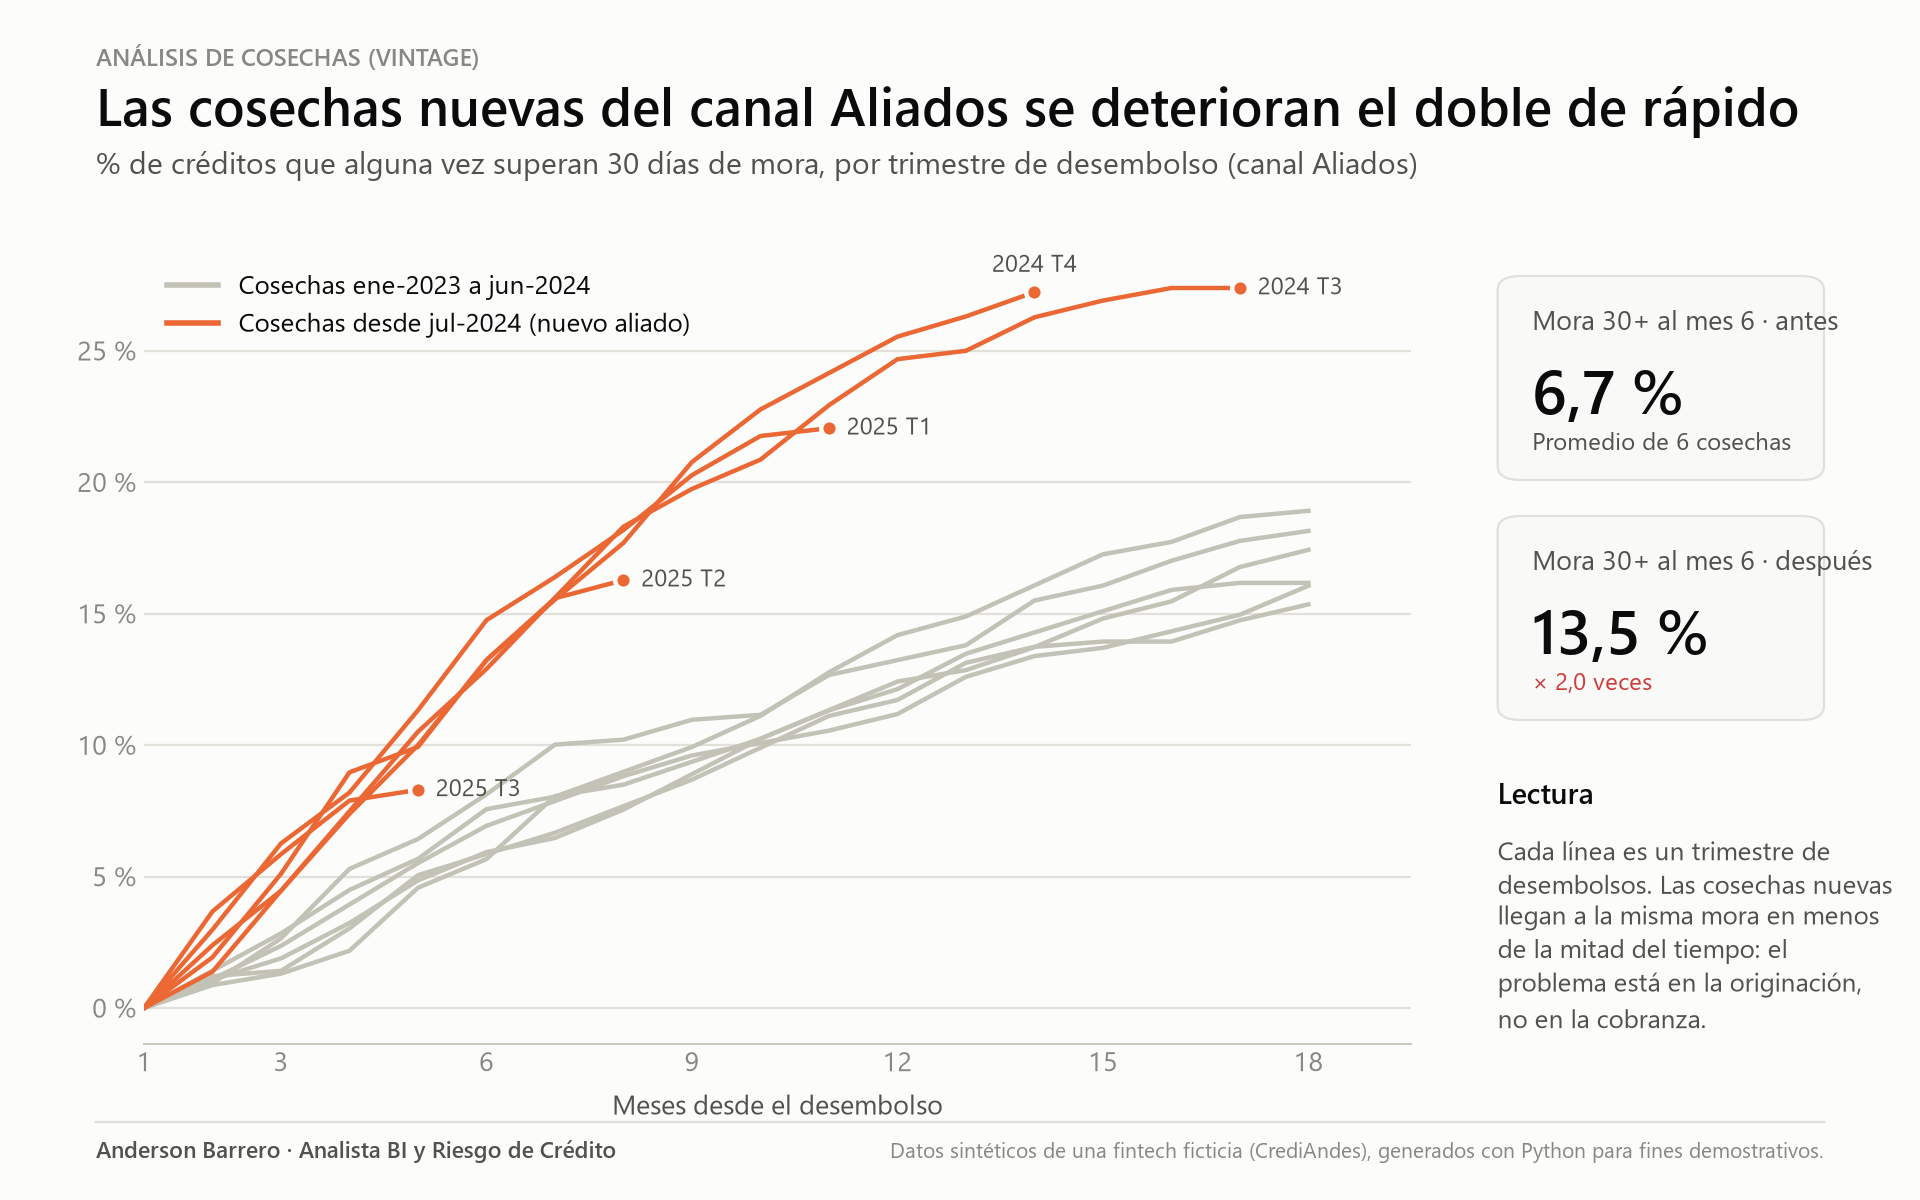

What the dashboard file says about the page in this screenshot:
{"tool":"powerbi","page":{"name":"Cosechas","canvas":[1280,720],"ordinal":1},"visuals":[{"type":"textbox","box":[20,8,1240,64],"z":0},{"type":"slicer","title":"Canal","fields":{"Values":["cosechas.canal"]},"box":[20,80,300,150],"z":1000},{"type":"lineChart","title":"Mora 30+ acumulada · gris: antes de jul-2024 · naranja: desde jul-2024","fields":{"Category":["cosechas.Meses desde el desembolso"],"Series":["cosechas.Cosecha"],"Y":["Medidas.Mora 30+ cosecha"]},"box":[340,80,920,620],"z":2000},{"type":"textbox","box":[20,250,300,300],"z":3000}]}

Visuals, with their boxes on the page's 1280x720 design canvas (x1, y1, x2, y2). These are canvas units, not pixel positions in the 1920x1200 screenshot, which may show the page scaled, cropped or inside an application window:
textbox: 20:8:1260:72
"Canal" slicer: 20:80:320:230
"Mora 30+ acumulada · gris: antes de jul-2024 · naranja: desde jul-2024" lineChart: 340:80:1260:700
textbox: 20:250:320:550
